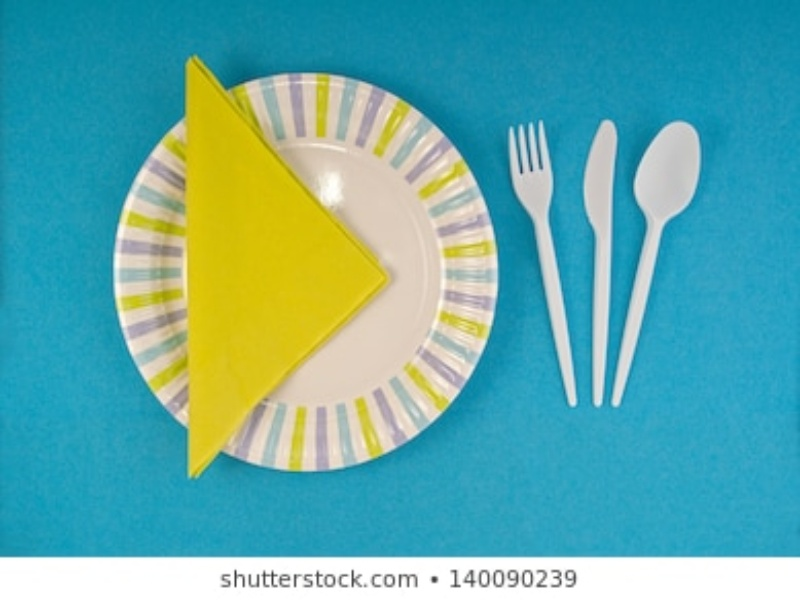plastic-plate: (108, 68, 499, 474)
plastic-silverware: (617, 119, 719, 406), (504, 115, 581, 417), (575, 105, 629, 417)
